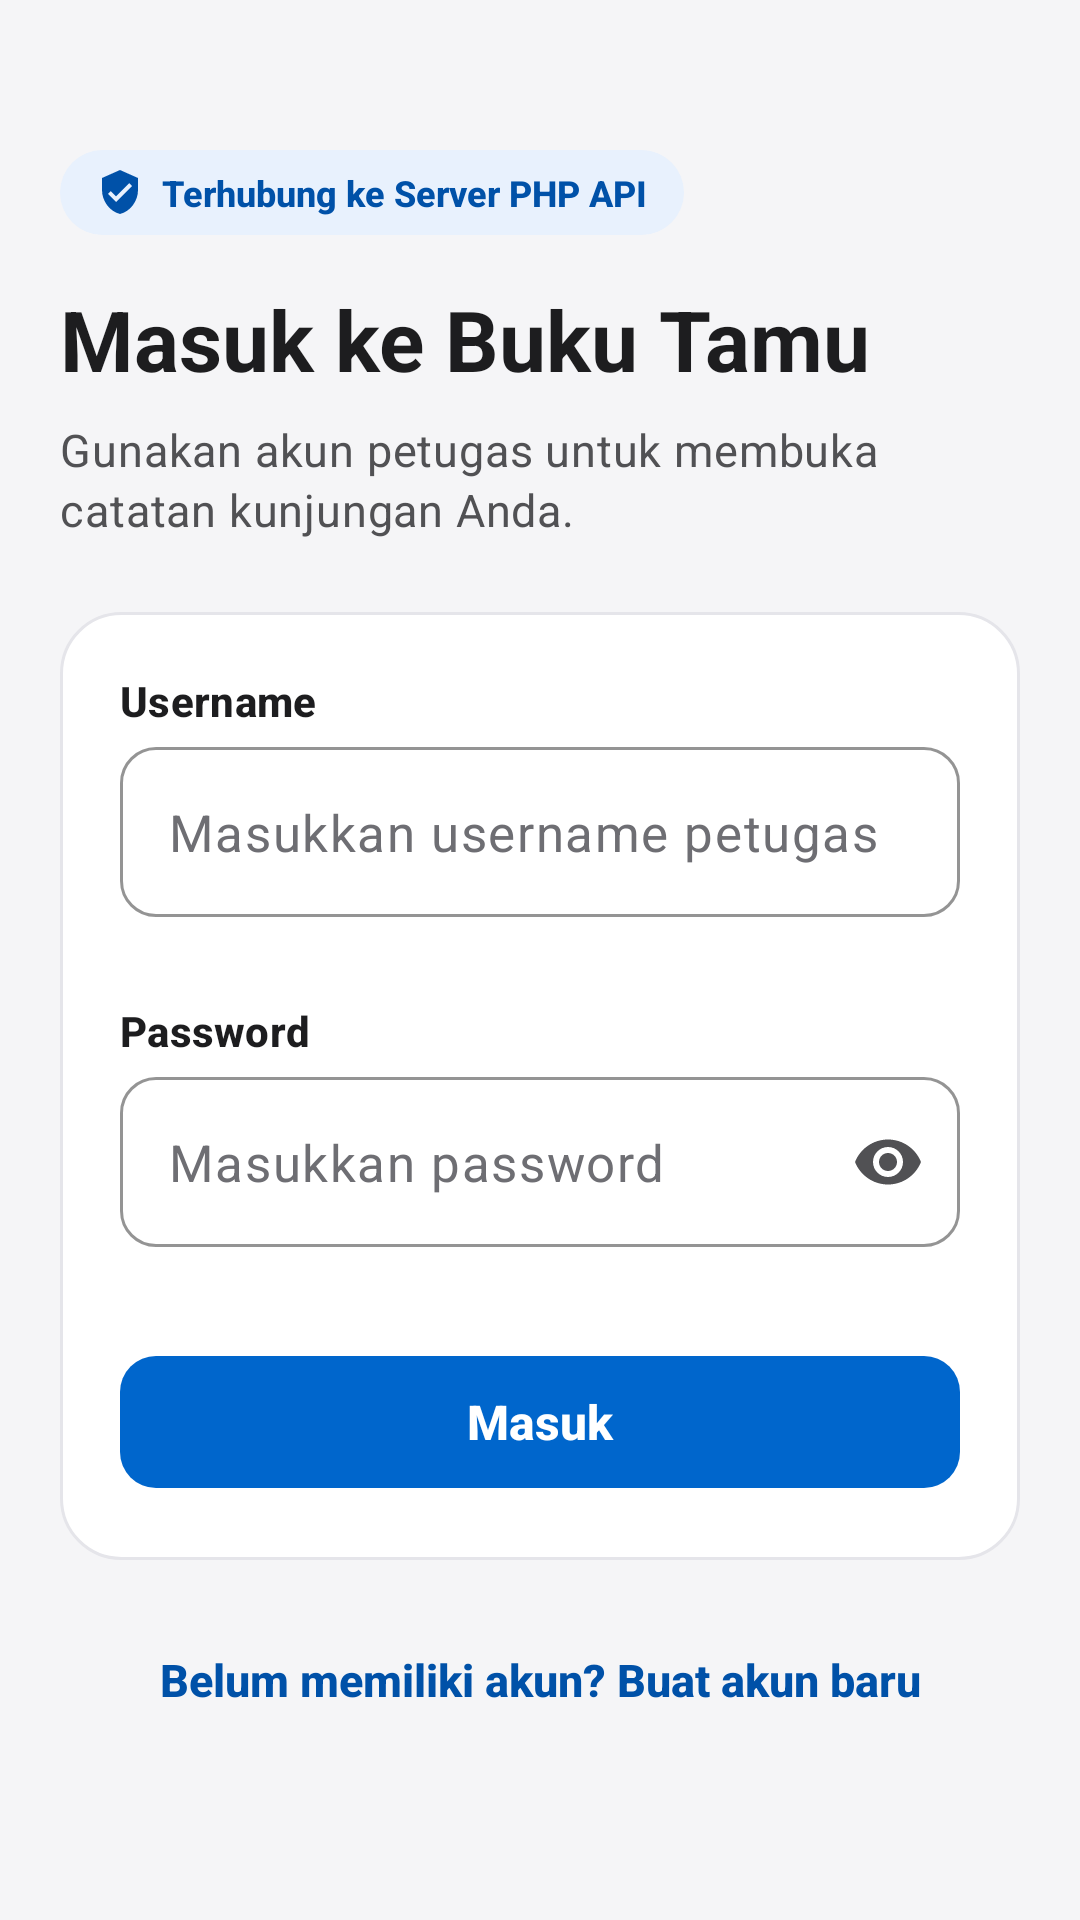

Screen size 1080w x 1920h. Icon name, then its center in pixels as (x,y):
check shield: (120,192)
